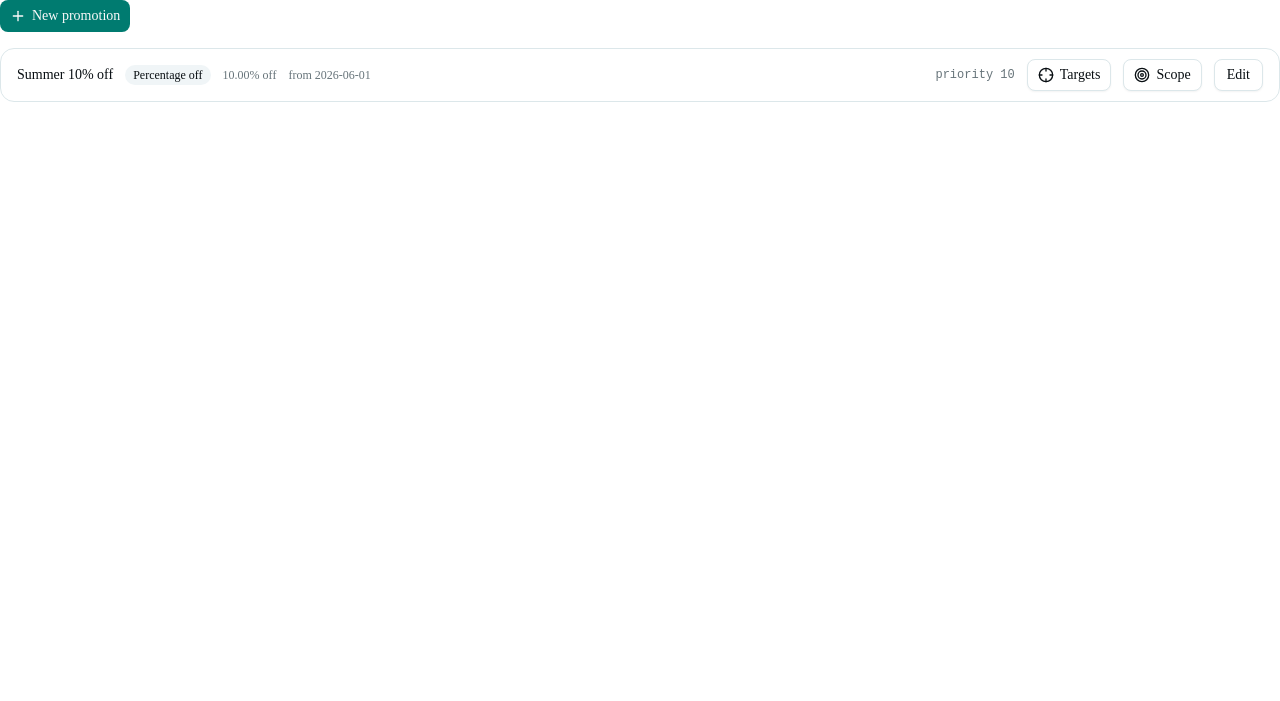
<PromotionBrowser> › asks for the bundle only when the type gives units away
The image size is (1280, 701).
Click the button "New promotion" at (65, 16), box x1=0 y1=0 x2=130 y2=32
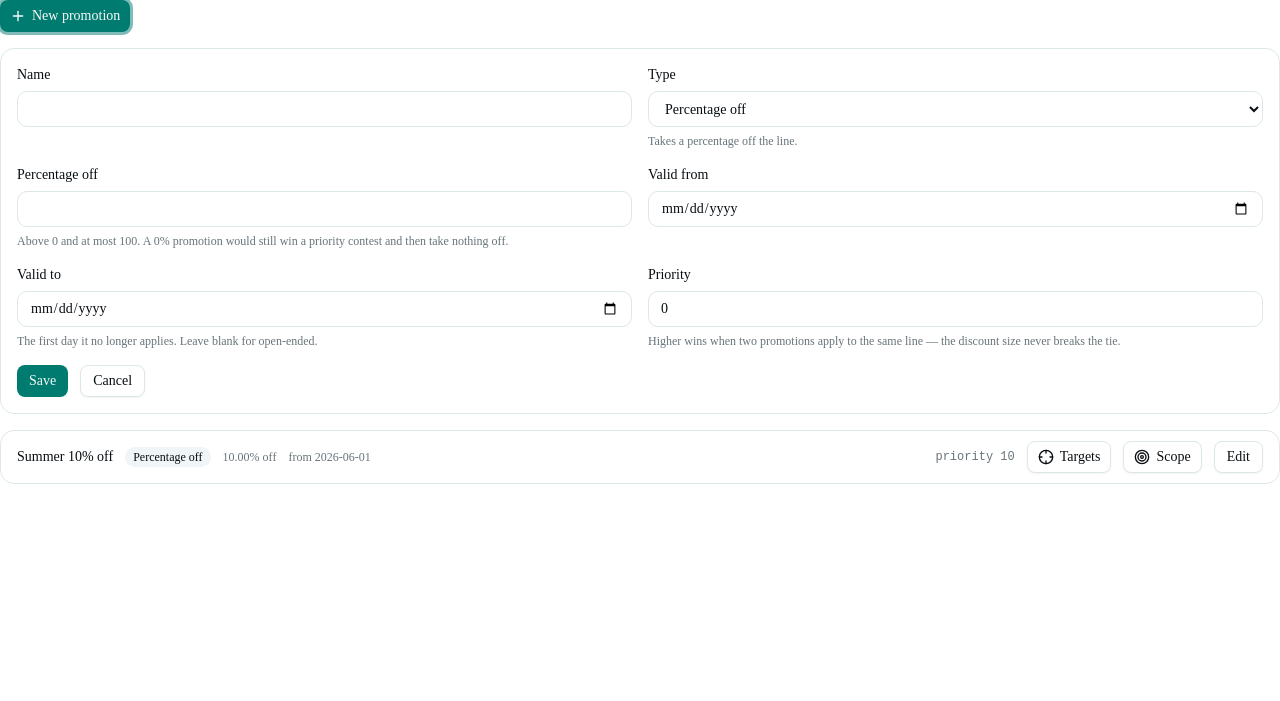
Expected: the field labelled "Bought" is not shown
Select "Buy X get Y" in the dropdown labelled "Type" at (956, 109), box x1=648 y1=91 x2=1263 y2=127
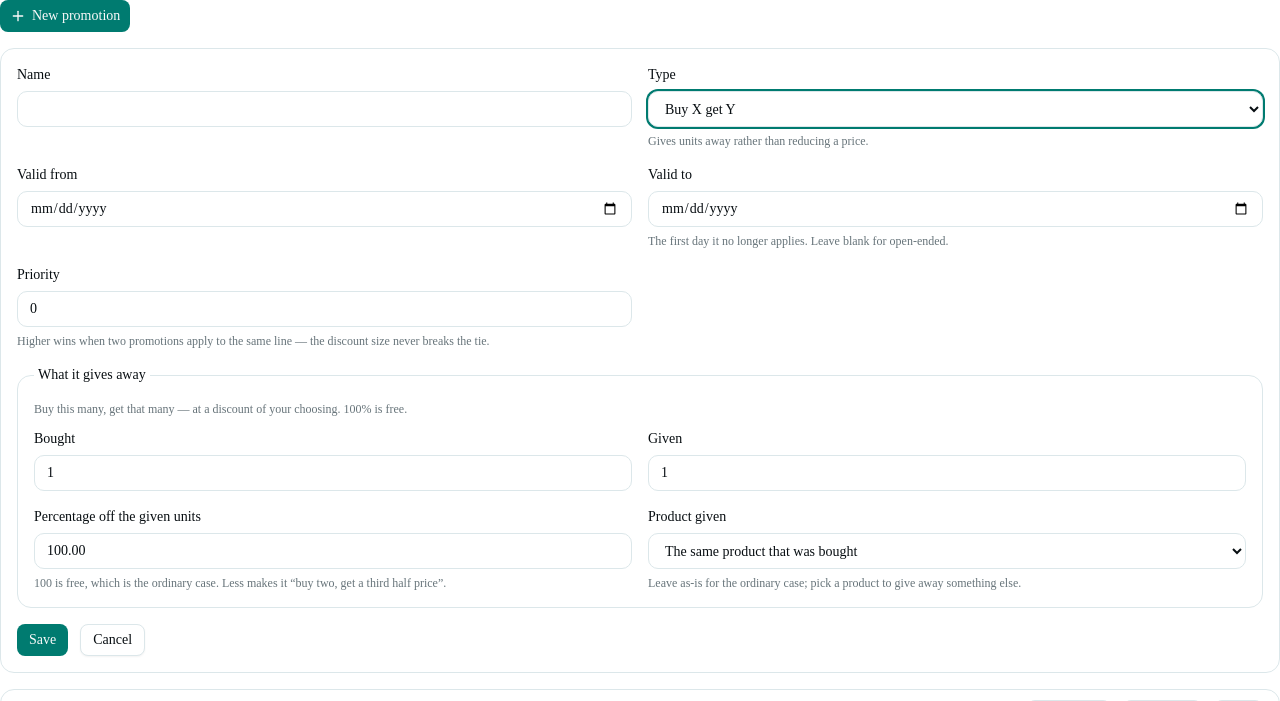
Expected: the number field labelled "Bought" is shown, x1=34 y1=455 x2=632 y2=491
Expected: the number field labelled "Given" is shown, x1=648 y1=455 x2=1246 y2=491
Expected: the field labelled "Percentage off the given units" is shown, x1=34 y1=533 x2=632 y2=569
